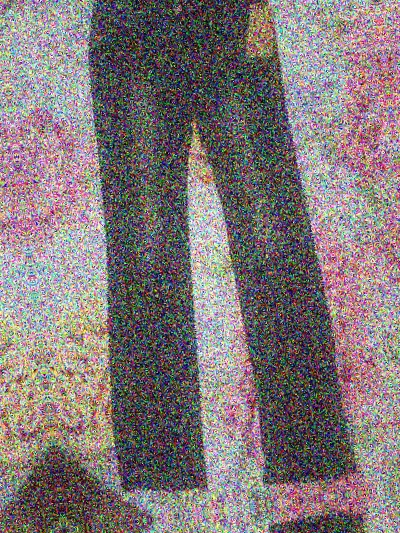Pants: (42, 0, 363, 508), (0, 9, 17, 533), (111, 510, 400, 533)
